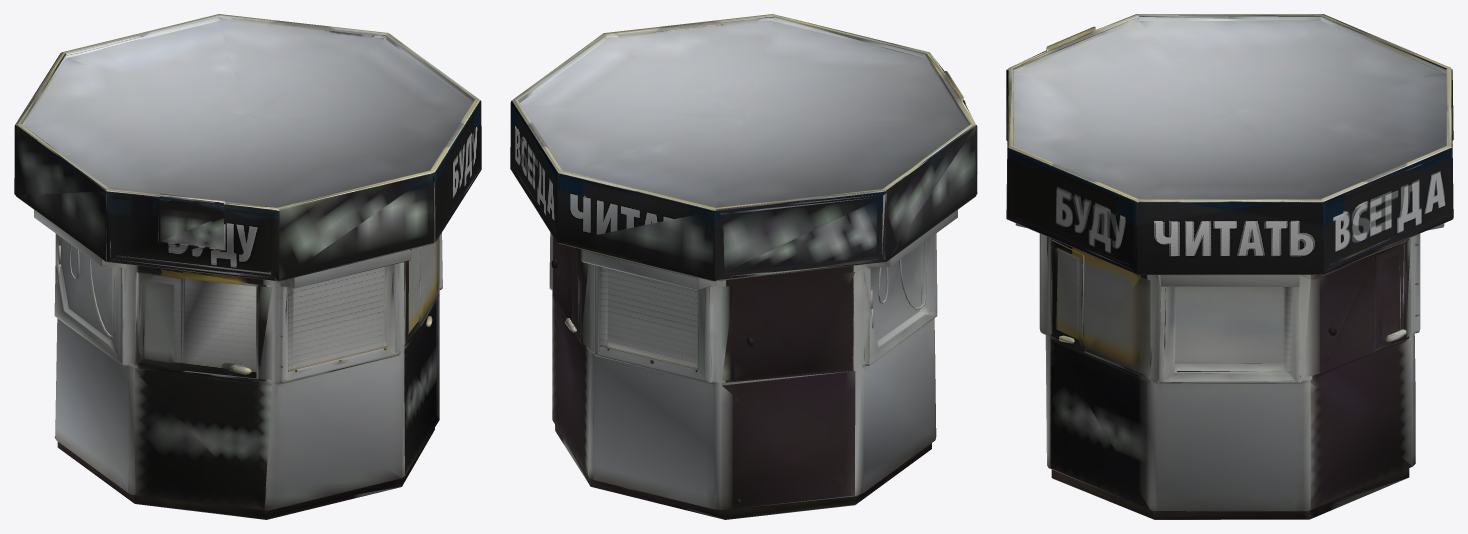
Rendered from newspaper-kiosk-2.glb.
3 views of the same model, side by side, from view 1: azimuth 30°, elevation 25°; view 2: azimuth 150°, elevation 25°; view 3: azimuth 270°, elevation 25° (orthographic). The views are drawn at different scales.
Size of the model in its own units: 1.9 by 1.6 by 1.9.
1 material, 1 textured.
